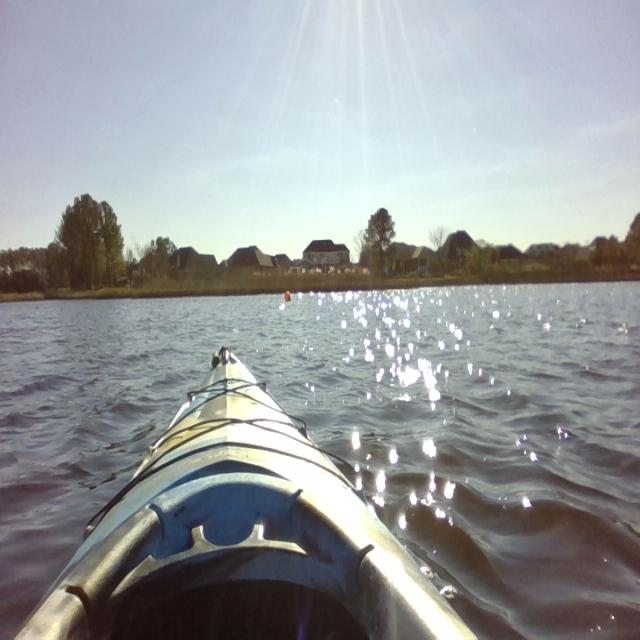Buoy: (282, 286, 294, 304)
